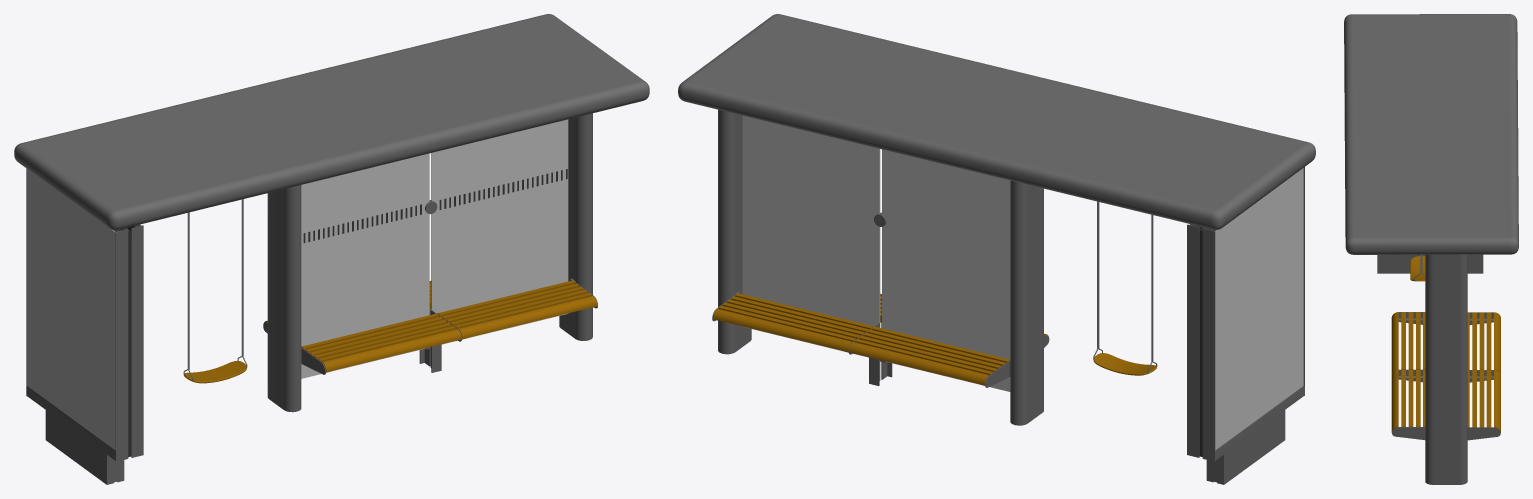
Rendered from bus-shed.gltf.
3 views of the same model, side by side, from view 1: azimuth 30°, elevation 25°; view 2: azimuth 150°, elevation 25°; view 3: azimuth 270°, elevation 25° (orthographic). The views are drawn at different scales.
Parts seen in each view (by area): view 1: Bus_Stop; view 2: Bus_Stop; view 3: Bus_Stop.
Part boxes in pixels (x1,y1,x2,y2): Bus_Stop: (14,14,649,484); Bus_Stop: (678,14,1315,484); Bus_Stop: (1344,14,1518,484).
Bounding box in the file's own units: 447 × 226 × 144.
